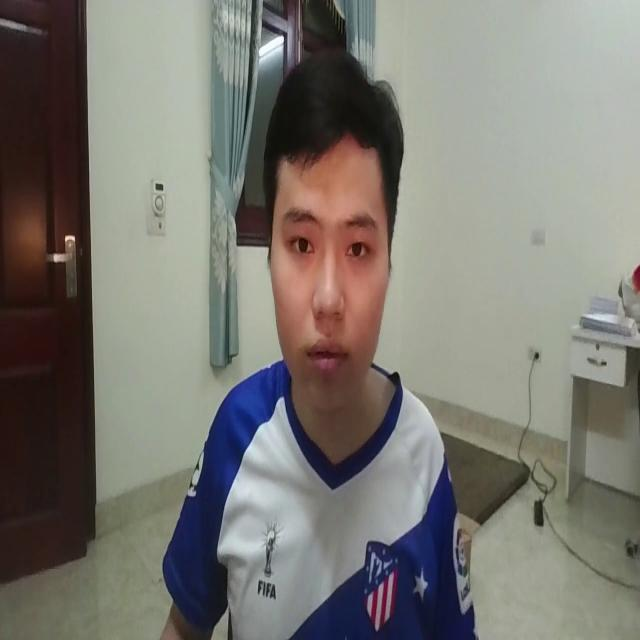student: (142, 41, 484, 640)
